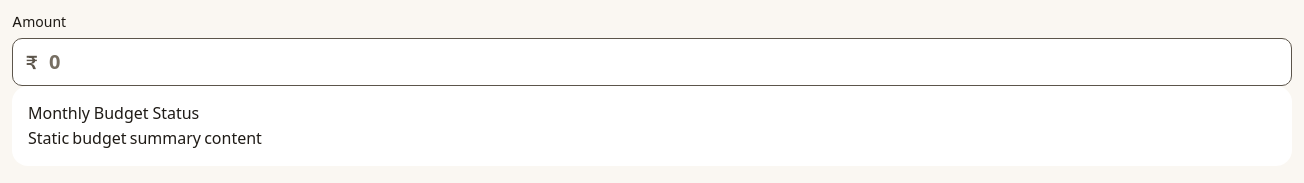
Test: React Profiler & Re-render Assertion for Forms and Filters (PERF-8) › Form Input Re-render Isolation › typing in AmountInput does not trigger re-renders in memoized sibling cards
The width and height of the screenshot is (1304, 183).
// Type multiple characters into AmountInput
Type "1" into the field labelled "Amount" at x=652, y=62, box [12,38,1292,86]
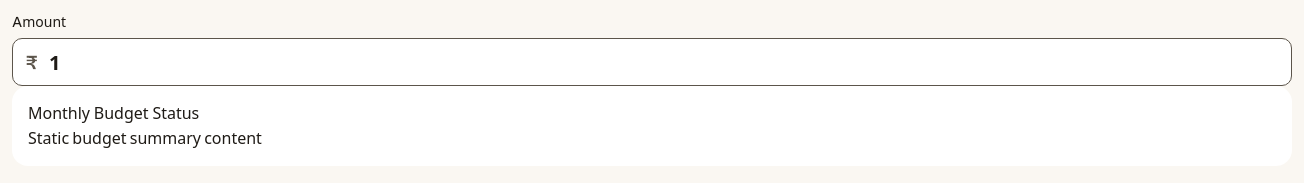
Replace the text in the field labelled "Amount" with "12" at x=652, y=62, box [12,38,1292,86]
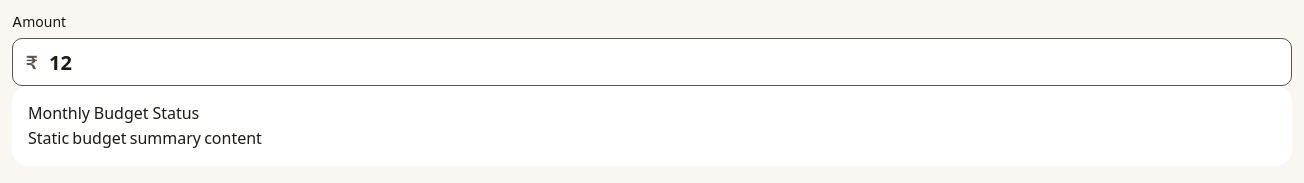
Replace the text in the field labelled "Amount" with "120" at x=652, y=62, box [12,38,1292,86]
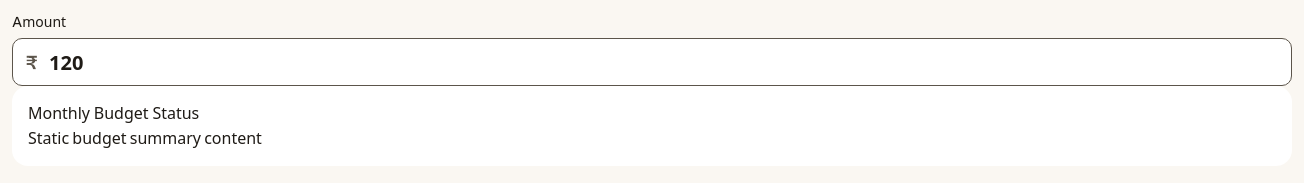
Replace the text in the field labelled "Amount" with "1200" at x=652, y=62, box [12,38,1292,86]
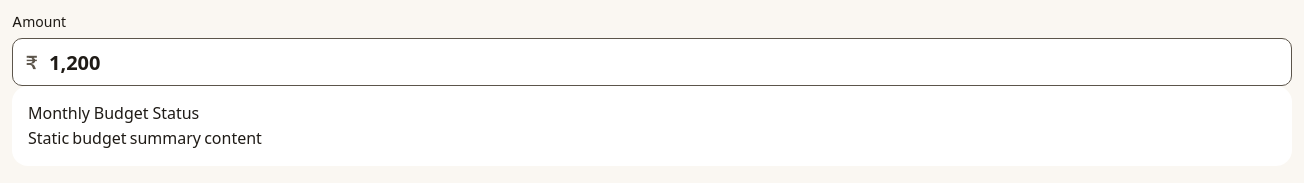
Expected: the field labelled "Amount" holds "1,200", [12,38,1292,86]
